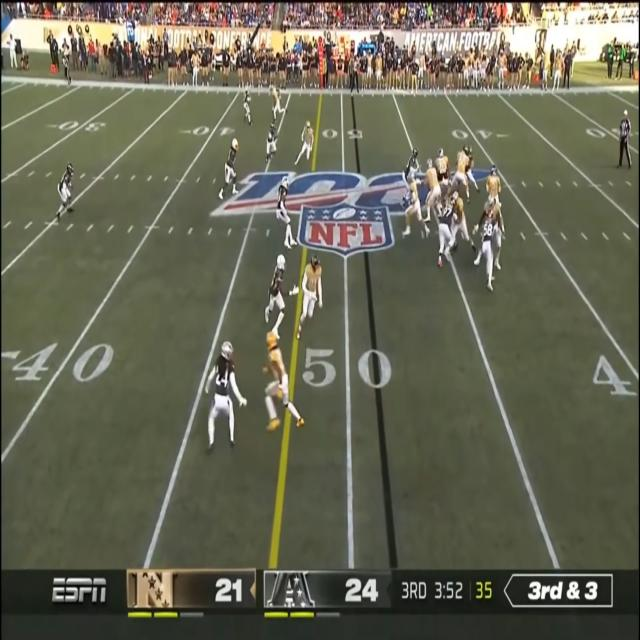players: (204, 338, 249, 456), (264, 322, 308, 436), (474, 201, 508, 299), (293, 254, 327, 346), (265, 252, 295, 346), (434, 191, 462, 272), (404, 170, 430, 242), (481, 165, 503, 230), (54, 160, 76, 224), (220, 139, 242, 203), (454, 142, 480, 194), (275, 172, 291, 230), (402, 144, 422, 190), (434, 146, 452, 195), (264, 119, 280, 171), (242, 88, 255, 128), (272, 89, 284, 124)
